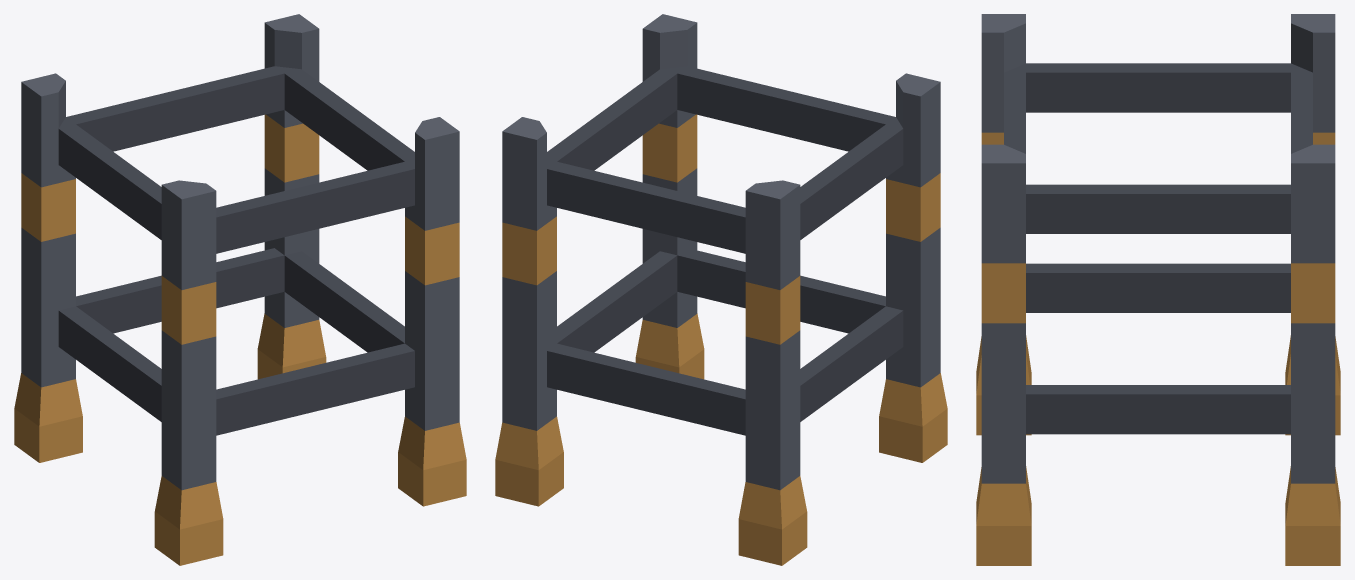
File: station_lattice.glb
The picture shows the model from 3 angles, left to right: view 1: azimuth 30°, elevation 25°; view 2: azimuth 150°, elevation 25°; view 3: azimuth 270°, elevation 25°; orthographic projection. The views are drawn at different scales.
Parts seen in each view (by area): view 1: body; view 2: body; view 3: body.
Part boxes in pixels (x1,y1,x2,y2): body: [14, 14, 466, 565]; body: [495, 14, 947, 565]; body: [976, 14, 1340, 565].
Bounding box in the file's own units: 0.825 × 1 × 0.825.
